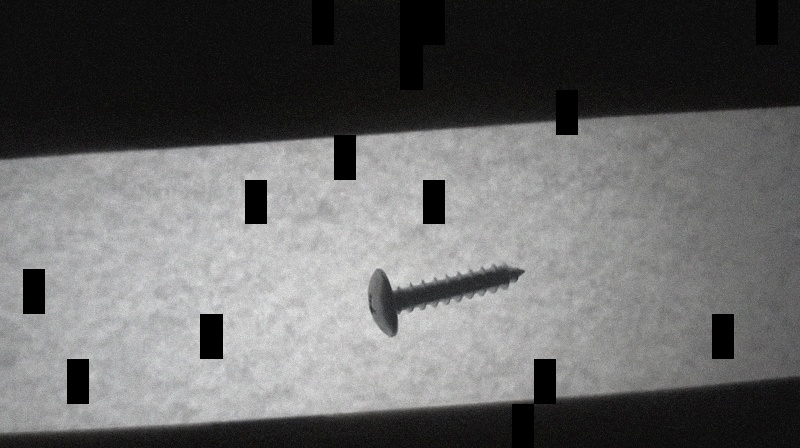S003: (363, 258, 527, 340)
